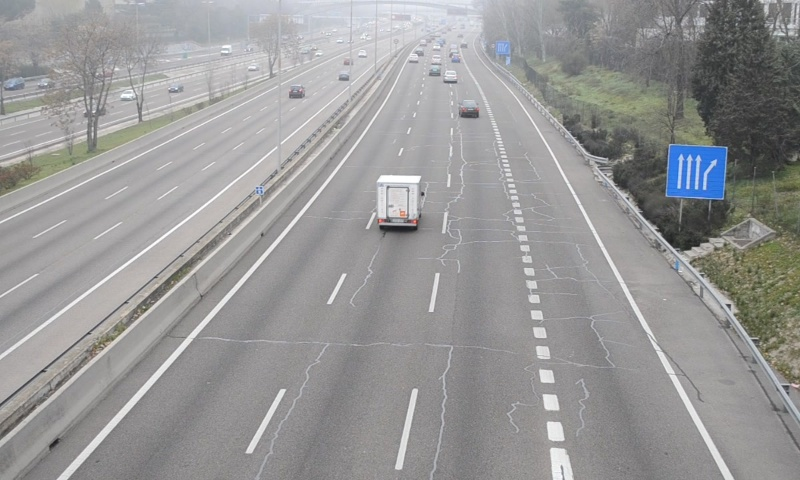car: (457, 98, 480, 117)
small-truck: (376, 174, 424, 228)
